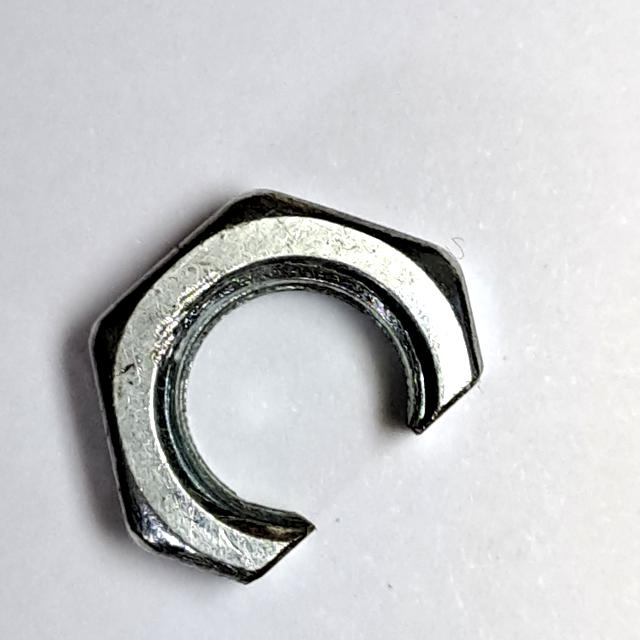Fracture: (77, 182, 499, 597)
